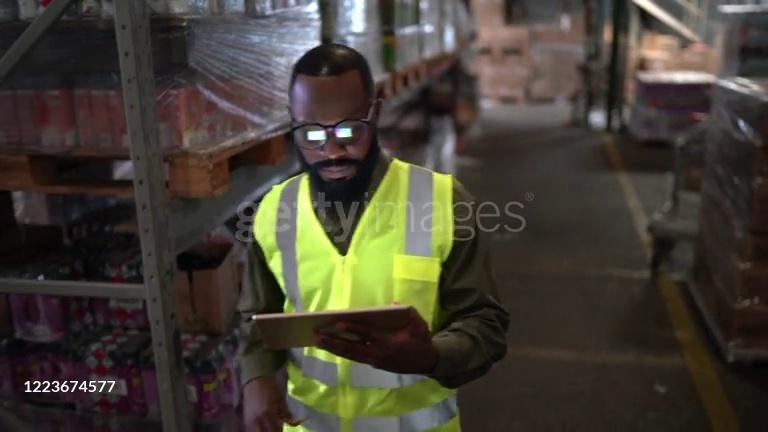person: (230, 43, 513, 432)
